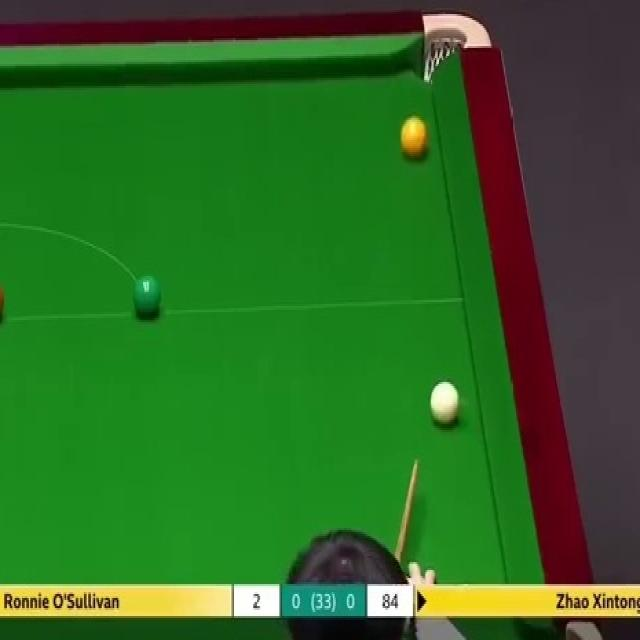green-ball: (133, 272, 162, 317)
white-ball: (429, 379, 460, 428)
yellow-ball: (400, 114, 429, 159)
